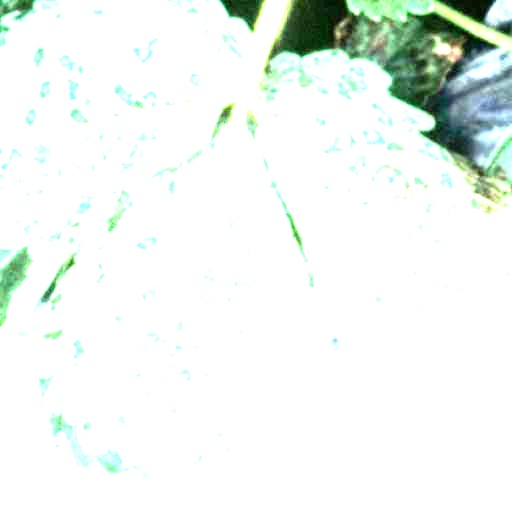Angular Leafspot: (30, 122, 318, 488), (253, 48, 511, 340)
